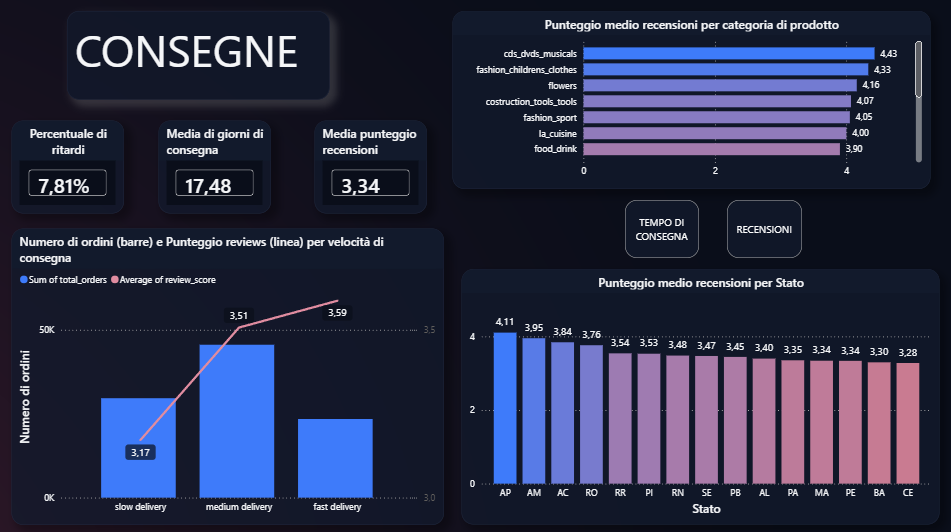

Layout of this report page (visuals, bound fields, positions):
{"tool":"powerbi","page":{"name":"Consegne","canvas":[1280,720],"ordinal":2},"visuals":[{"type":"cardVisual","title":"Percentuale di ritardi","fields":{"Data":["delivery.late_%"]},"box":[21.2,143.8,149.9,124.2],"z":0},{"type":"cardVisual","title":"Media di giorni di consegna","fields":{"Data":["Avg(delivery.average_delivery_days)"]},"box":[213.5,143.8,149.9,124.2],"z":1000},{"type":"lineClusteredColumnComboChart","title":"Numero di ordini (barre) e Punteggio reviews (linea) per velocità di consegna","fields":{"Category":["delivery.delivery_time"],"Y":["Sum(delivery.total_orders)"],"Y2":["Avg(delivery.review_score)"]},"box":[21.2,305.9,576.9,395.2],"z":2000},{"type":"clusteredColumnChart","title":"Punteggio medio recensioni per Stato","fields":{"Category":["delivery.customer_state"],"Y":["Avg(delivery.review_score)"]},"box":[622,360.1,637.4,340.9],"z":5000},{"type":"clusteredBarChart","title":"Punteggio medio recensioni per categoria di prodotto","fields":{"Category":["delivery.product_category_name_english"],"Y":["Avg(delivery.review_score)"]},"box":[610,15.7,637.1,237.1],"z":6000},{"type":"cardVisual","title":"Media punteggio recensioni","fields":{"Data":["Avg(delivery.review_score)"]},"box":[416.4,143.8,149.9,124.2],"z":7000},{"type":"actionButton","box":[976.7,268,99.9,77.2],"z":8000},{"type":"actionButton","box":[840,268.6,98.6,77.1],"z":9000},{"type":"textbox","box":[99.9,15.1,316.5,99.9],"z":10000}]}

Visuals, with their boxes in screenshot pixels (x1, y1, x2, y2), scaled from the page's 1280x720 canvas onto the 951x532 screenshot:
"Percentuale di ritardi" cardVisual: {"left": 16, "top": 106, "right": 127, "bottom": 198}
"Media di giorni di consegna" cardVisual: {"left": 159, "top": 106, "right": 270, "bottom": 198}
"Numero di ordini (barre) e Punteggio reviews (linea) per velocità di consegna" lineClusteredColumnComboChart: {"left": 16, "top": 226, "right": 444, "bottom": 518}
"Punteggio medio recensioni per Stato" clusteredColumnChart: {"left": 462, "top": 266, "right": 936, "bottom": 518}
"Punteggio medio recensioni per categoria di prodotto" clusteredBarChart: {"left": 453, "top": 12, "right": 927, "bottom": 187}
"Media punteggio recensioni" cardVisual: {"left": 309, "top": 106, "right": 421, "bottom": 198}
actionButton: {"left": 726, "top": 198, "right": 800, "bottom": 255}
actionButton: {"left": 624, "top": 198, "right": 697, "bottom": 255}
textbox: {"left": 74, "top": 11, "right": 309, "bottom": 85}
